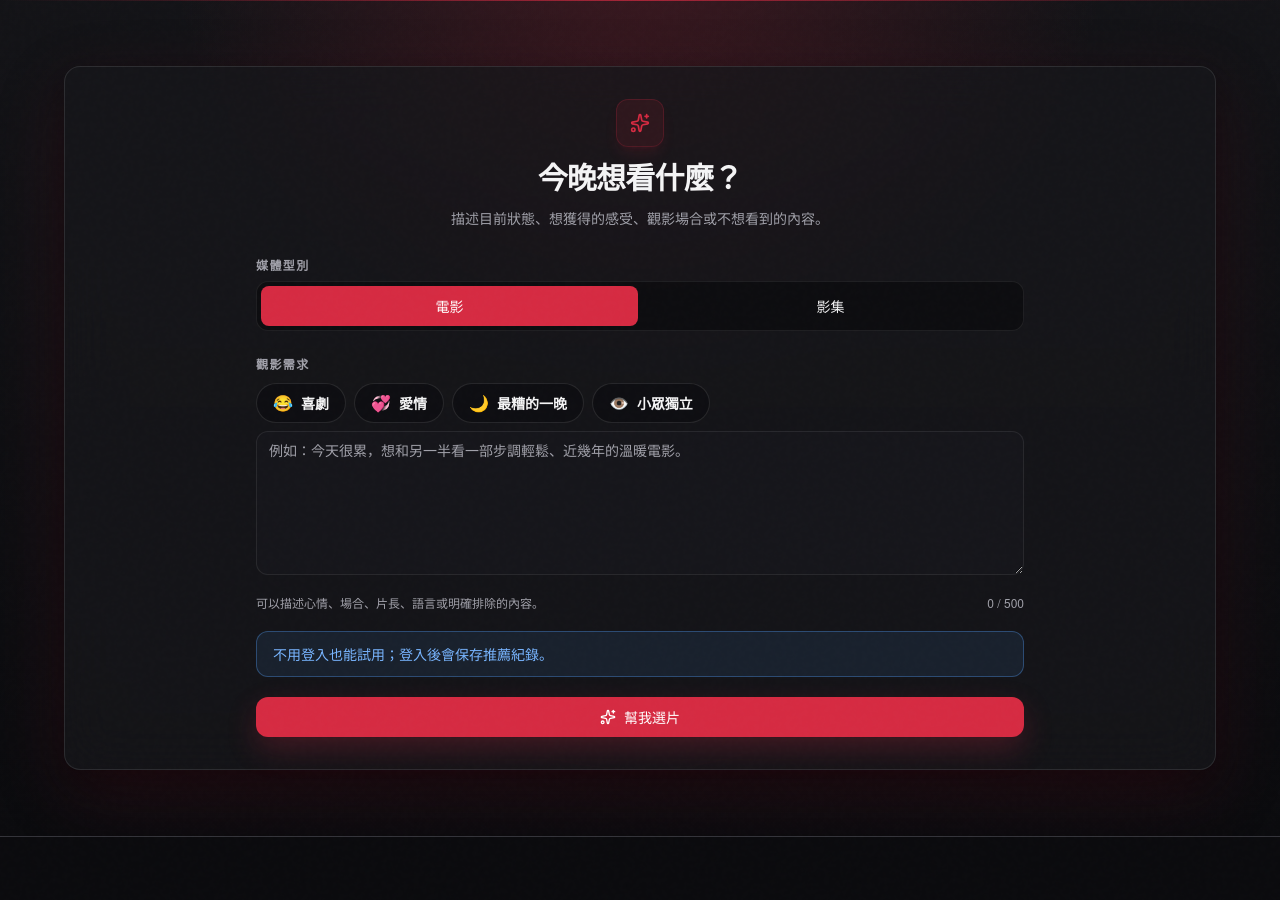
Test: AiMoviePicker › fills the request from the 最糟的一晚 template without submitting
Expected: the text "想看一個夜晚徹底失控的恐怖故事，有追逐、意外和越來越糟的局面。" is not shown
Click the button "🌙 最糟的一晚" at (518, 403), box x1=452 y1=383 x2=584 y2=423
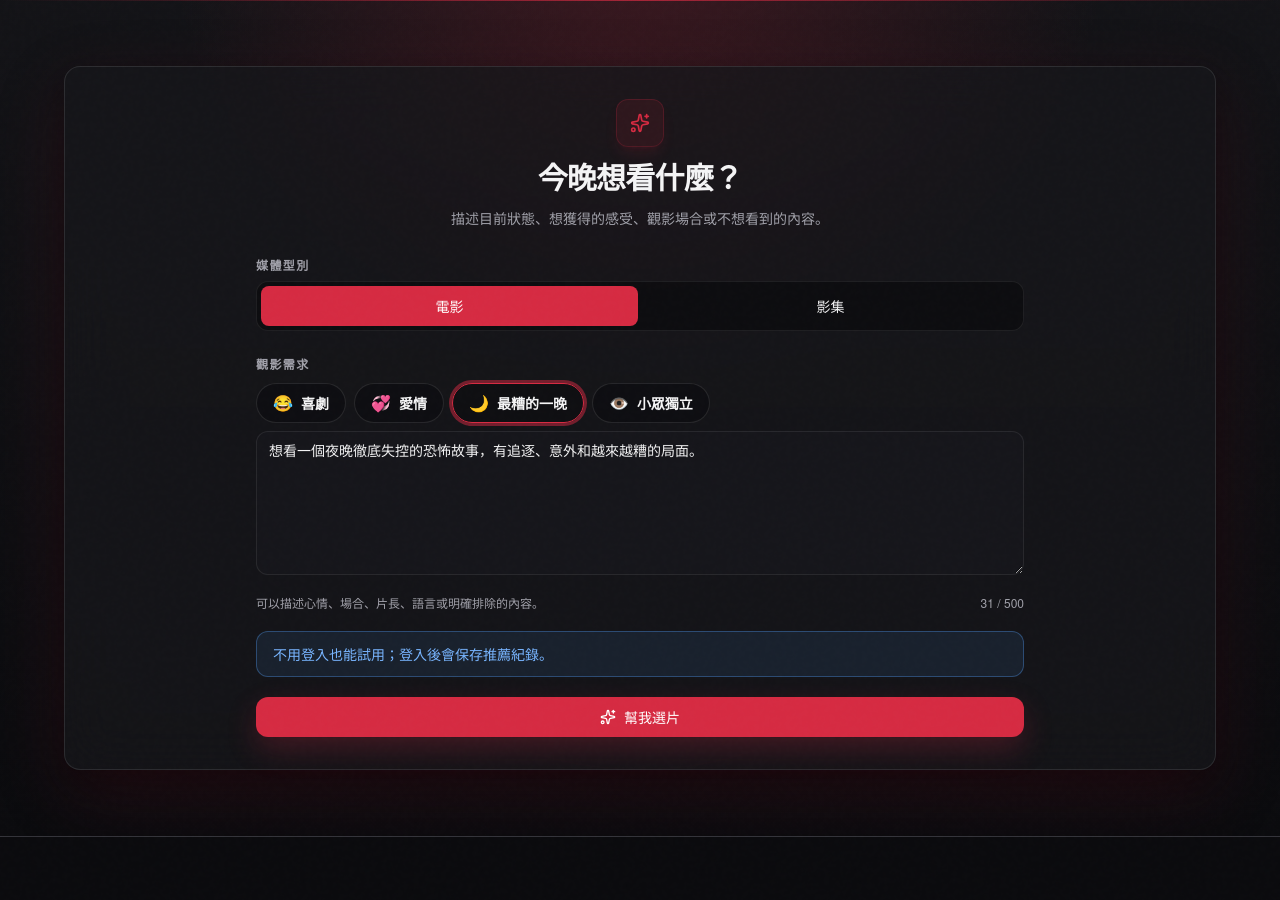
Result: the text box labelled "觀影需求" holds "想看一個夜晚徹底失控的恐怖故事，有追逐、意外和越來越糟的局面。" at x1=256 y1=431 x2=1024 y2=575
